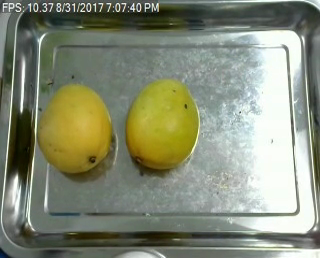Mango: (35, 85, 113, 173), (126, 78, 200, 167)
